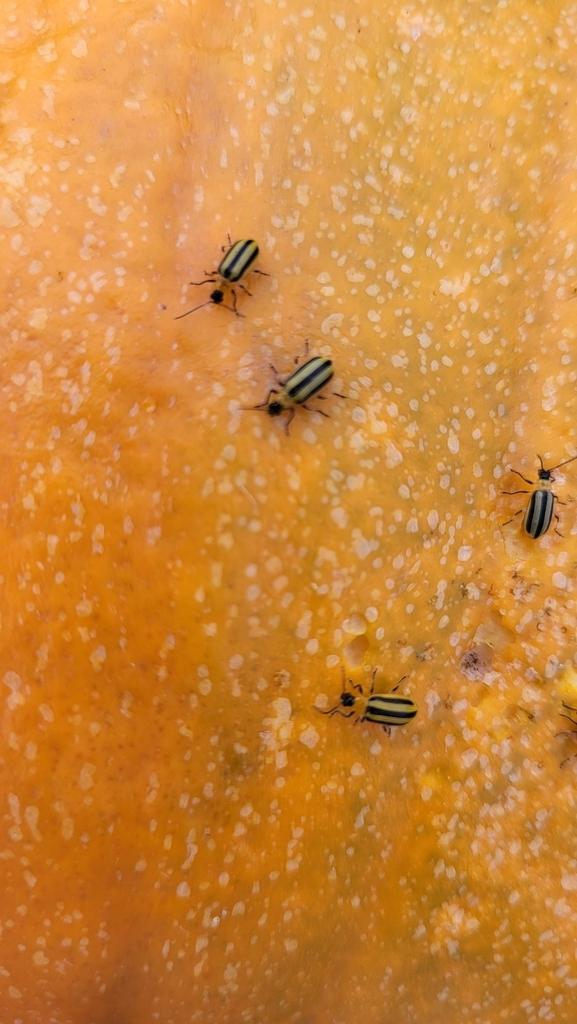potato_beetle: (209, 329, 380, 449), (159, 214, 301, 342), (295, 638, 443, 758), (486, 437, 577, 546)
